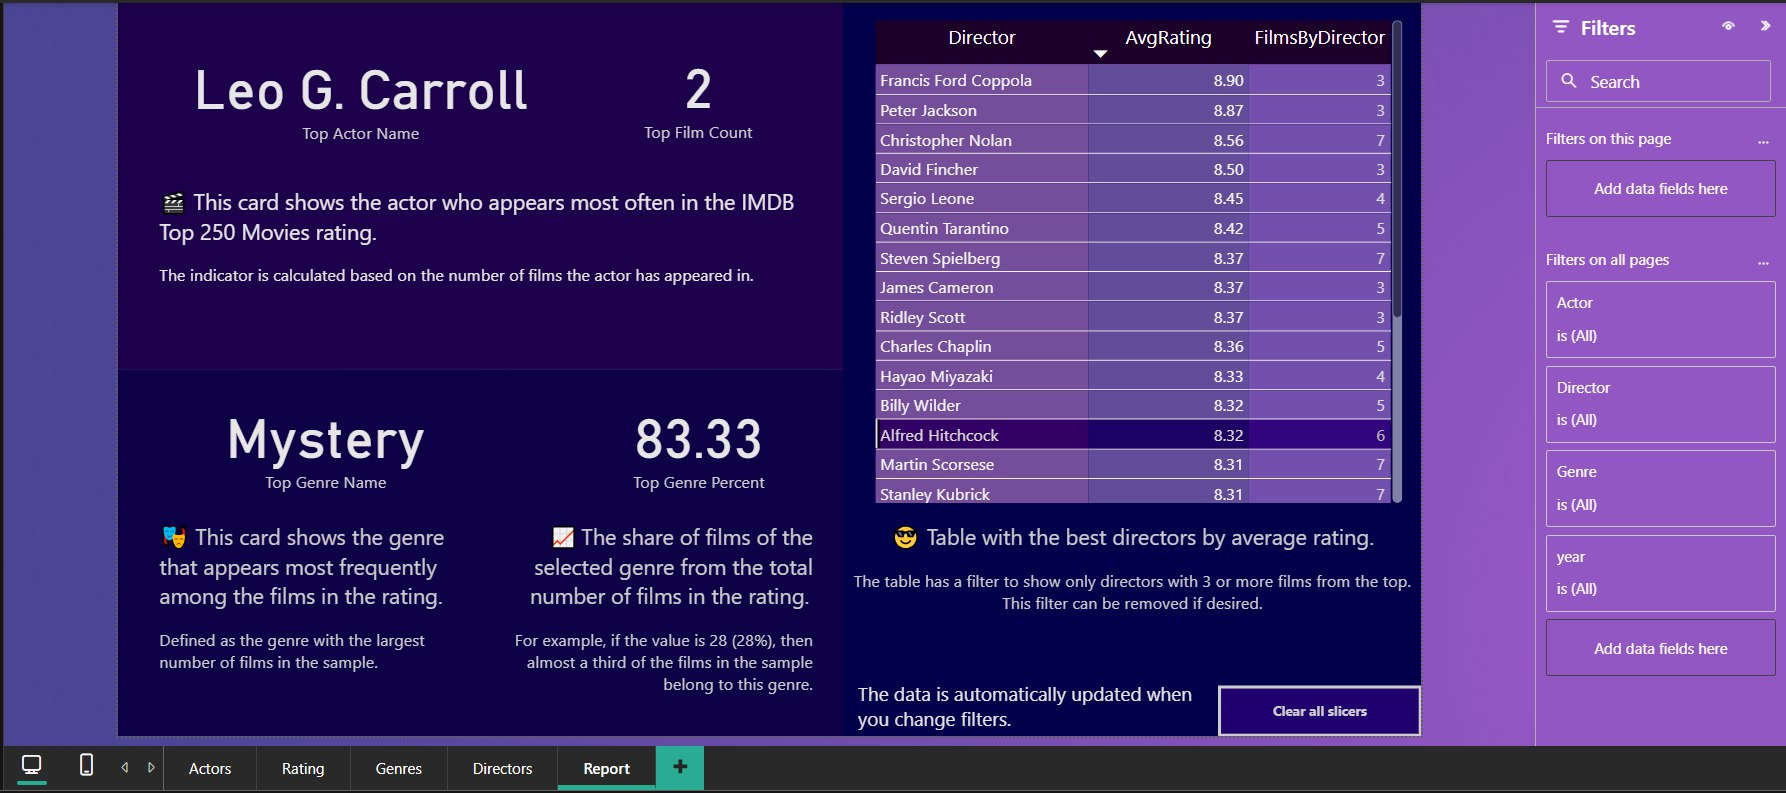

The page's visual inventory and layout, read from the dashboard file:
{"tool":"powerbi","page":{"name":"Report","canvas":[1280,720],"ordinal":4},"visuals":[{"type":"shape","box":[0,0,711.7,359.5],"z":0},{"type":"card","fields":{"Values":["Actors.TopActorName"]},"box":[35.6,1.2,406.1,175.5],"z":1000},{"type":"card","fields":{"Values":["Actors.Top Film Count"]},"box":[452.8,0,234.4,175.5],"z":2000},{"type":"shape","box":[0,359.5,711.7,360.7],"z":2500},{"type":"card","fields":{"Values":["Genre.TopGenreName"]},"box":[44.2,359.5,320.2,144.8],"z":3000},{"type":"shape","box":[711.7,0,568.1,720.2],"z":3500},{"type":"card","fields":{"Values":["Genre.TopGenrePercent"]},"box":[435.6,359.5,269.9,144.8],"z":4000},{"type":"tableEx","fields":{"Values":["Directors.Director","Directors.AvgDirectorRating","Directors.FilmsByDirector"]},"box":[737,11.9,527.9,483.4],"z":5000},{"type":"textbox","box":[35.6,175.5,651.5,125.2],"z":6000},{"type":"textbox","box":[721.2,660,357.8,61.3],"z":7000},{"type":"actionButton","box":[1079.8,669.7,200,50.3],"z":8000},{"type":"textbox","box":[35.6,504.3,299.4,165.6],"z":9000},{"type":"textbox","box":[364.4,504.3,322.7,216],"z":10000},{"type":"textbox","box":[711.7,504.3,568.1,108],"z":11000}]}

Visuals, with their boxes on the page's 1280x720 design canvas (x1, y1, x2, y2). These are canvas units, not pixel positions in the 1786x793 screenshot, which may show the page scaled, cropped or inside an application window:
shape: (0,0,712,360)
card - Actors.TopActorName: (36,1,442,177)
card - Actors.Top Film Count: (453,0,687,176)
shape: (0,360,712,720)
card - Genre.TopGenreName: (44,360,364,504)
shape: (712,0,1280,720)
card - Genre.TopGenrePercent: (436,360,706,504)
tableEx - Directors.Director x Directors.AvgDirectorRating: (737,12,1265,495)
textbox: (36,176,687,301)
textbox: (721,660,1079,721)
actionButton: (1080,670,1280,720)
textbox: (36,504,335,670)
textbox: (364,504,687,720)
textbox: (712,504,1280,612)
